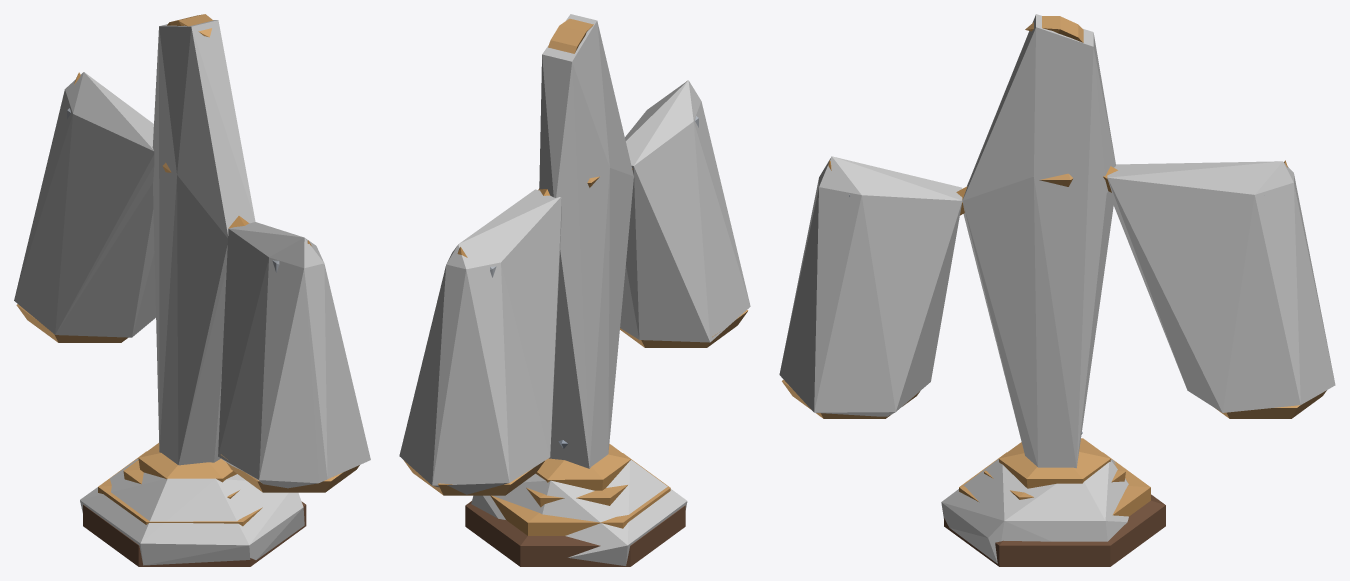
Rendered from SM_Prop_Scales_01.fbx.
3 renders of one model, left to right at view 1: azimuth 30°, elevation 25°; view 2: azimuth 150°, elevation 25°; view 3: azimuth 270°, elevation 25°, orthographic.
Visible parts, largest first — view 1: SM_Prop_Scales_01_ConvexHulls, SM_Prop_Scales_01; view 2: SM_Prop_Scales_01_ConvexHulls, SM_Prop_Scales_01; view 3: SM_Prop_Scales_01_ConvexHulls, SM_Prop_Scales_01.
Boxes of the visible parts, x1,y1,x2,y2 form: SM_Prop_Scales_01_ConvexHulls: [14, 20, 370, 565]; SM_Prop_Scales_01: [16, 14, 359, 566]; SM_Prop_Scales_01_ConvexHulls: [399, 14, 750, 565]; SM_Prop_Scales_01: [403, 18, 748, 566]; SM_Prop_Scales_01_ConvexHulls: [779, 14, 1335, 563]; SM_Prop_Scales_01: [782, 16, 1326, 566].
Size of the model in its own units: 29.11 by 84.11 by 84.48.
Materials: 2 (1 with a texture image).
